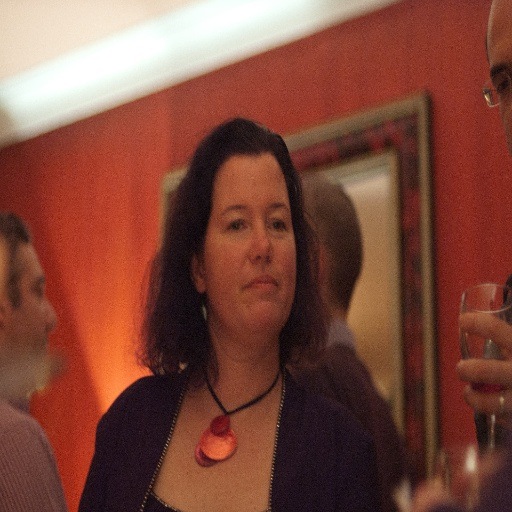hand: (450, 279, 510, 406)
